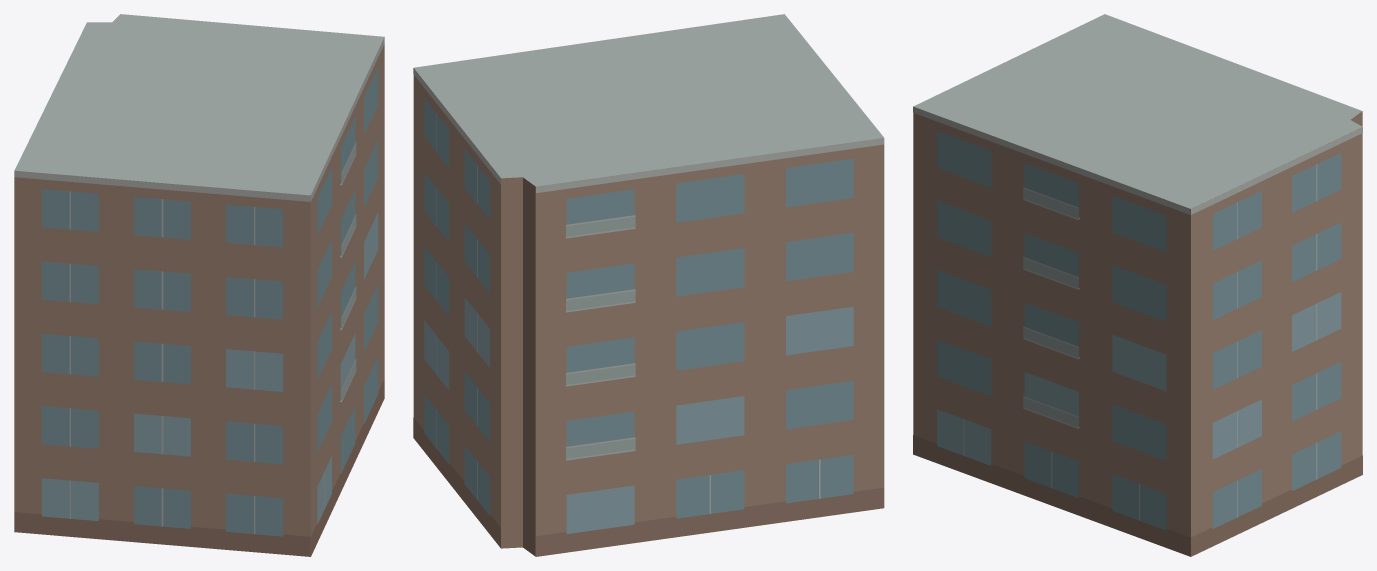
File: survey-upis-32884722.glb
The picture shows the model from 3 angles, left to right: view 1: azimuth 30°, elevation 25°; view 2: azimuth 150°, elevation 25°; view 3: azimuth 270°, elevation 25°; orthographic projection. The views are drawn at different scales.
Visible parts, largest first — view 1: survey-upis-32884722.tmp; view 2: survey-upis-32884722.tmp; view 3: survey-upis-32884722.tmp.
Boxes of the visible parts, x1,y1,x2,y2 form: survey-upis-32884722.tmp: [14, 14, 384, 556]; survey-upis-32884722.tmp: [413, 14, 884, 556]; survey-upis-32884722.tmp: [913, 14, 1362, 556].
Size of the model in its own units: 16.47 by 13.7 by 16.05.
